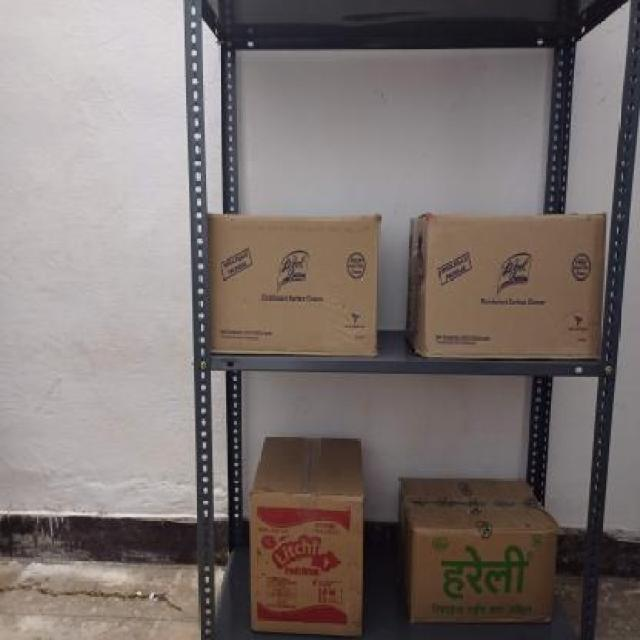box: (426, 214, 602, 366), (209, 214, 382, 352), (250, 494, 364, 631), (408, 528, 560, 624)
